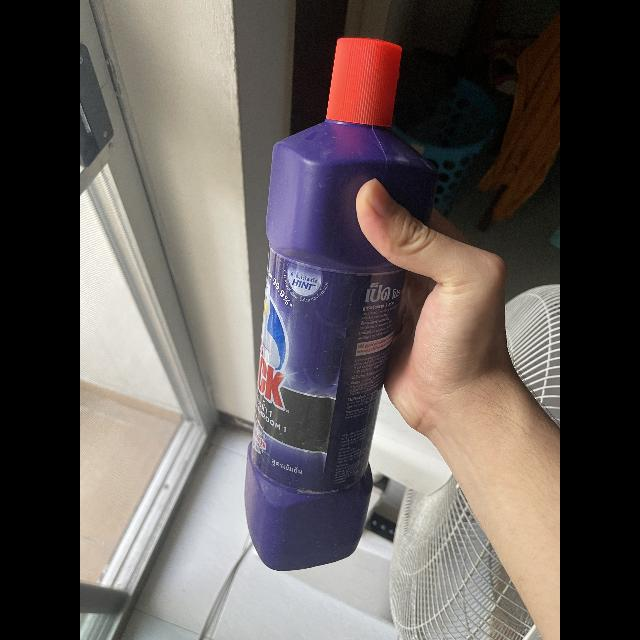chemical_plastic_bottle: (246, 27, 444, 583)
